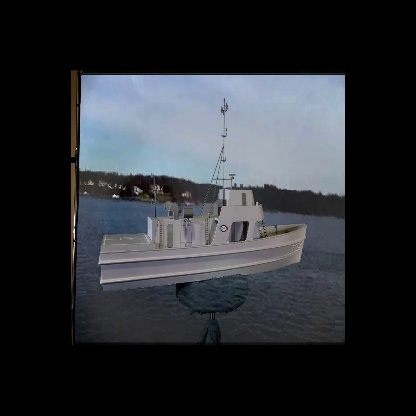YP689: (98, 97, 308, 293)
